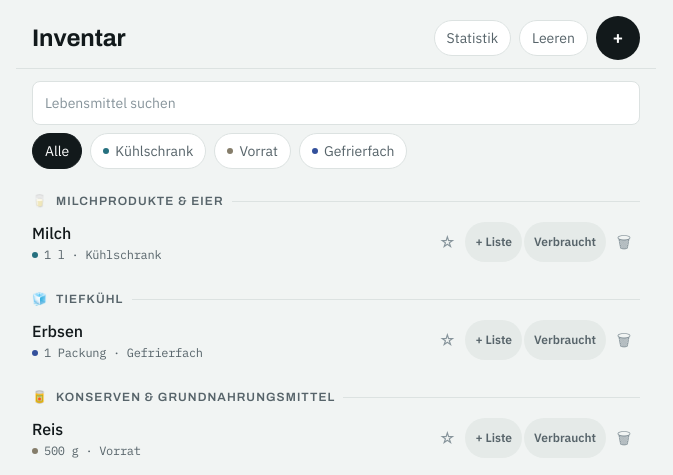
Test case: Inventory › searching and filtering › filters by storage location
Step 1. Click the button "Vorrat" → (253, 151), box [214,133,291,169]
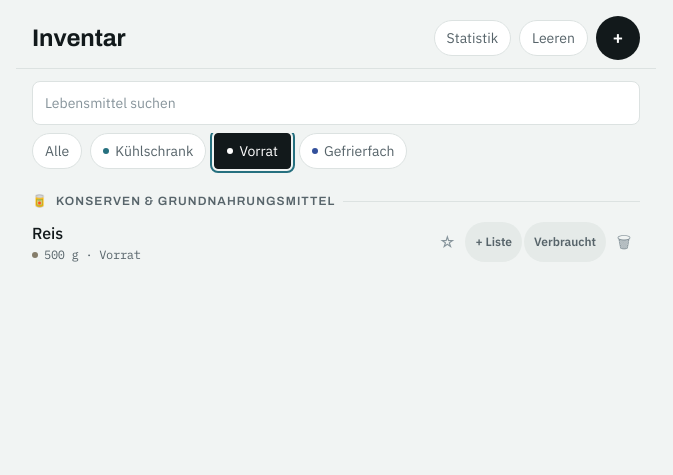
Check: the text "Reis" is shown, box [32,223,63,243]
Check: the heading "Milch" is gone
Step 2. Click the button "Gefrierfach" → (353, 151), box [299,133,407,169]
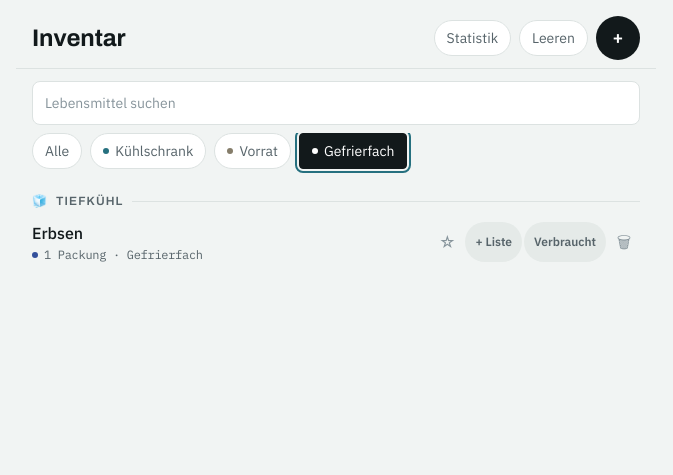
Check: the text "Erbsen" is shown, box [32,223,83,243]
Check: the text "Reis" is gone
